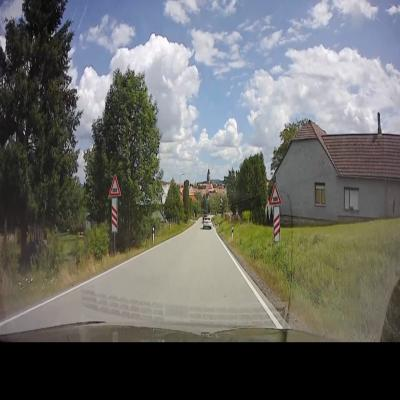clear-road: (92, 224, 251, 306)
